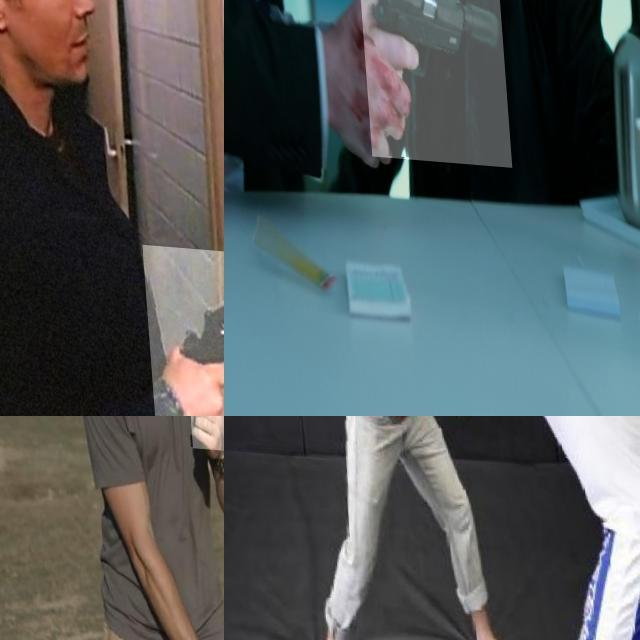-: (177, 416, 223, 500), (318, 416, 388, 465)
gun-knife-thesis - v11 Yolov5 augmented: (355, 0, 507, 161), (135, 241, 224, 416)
